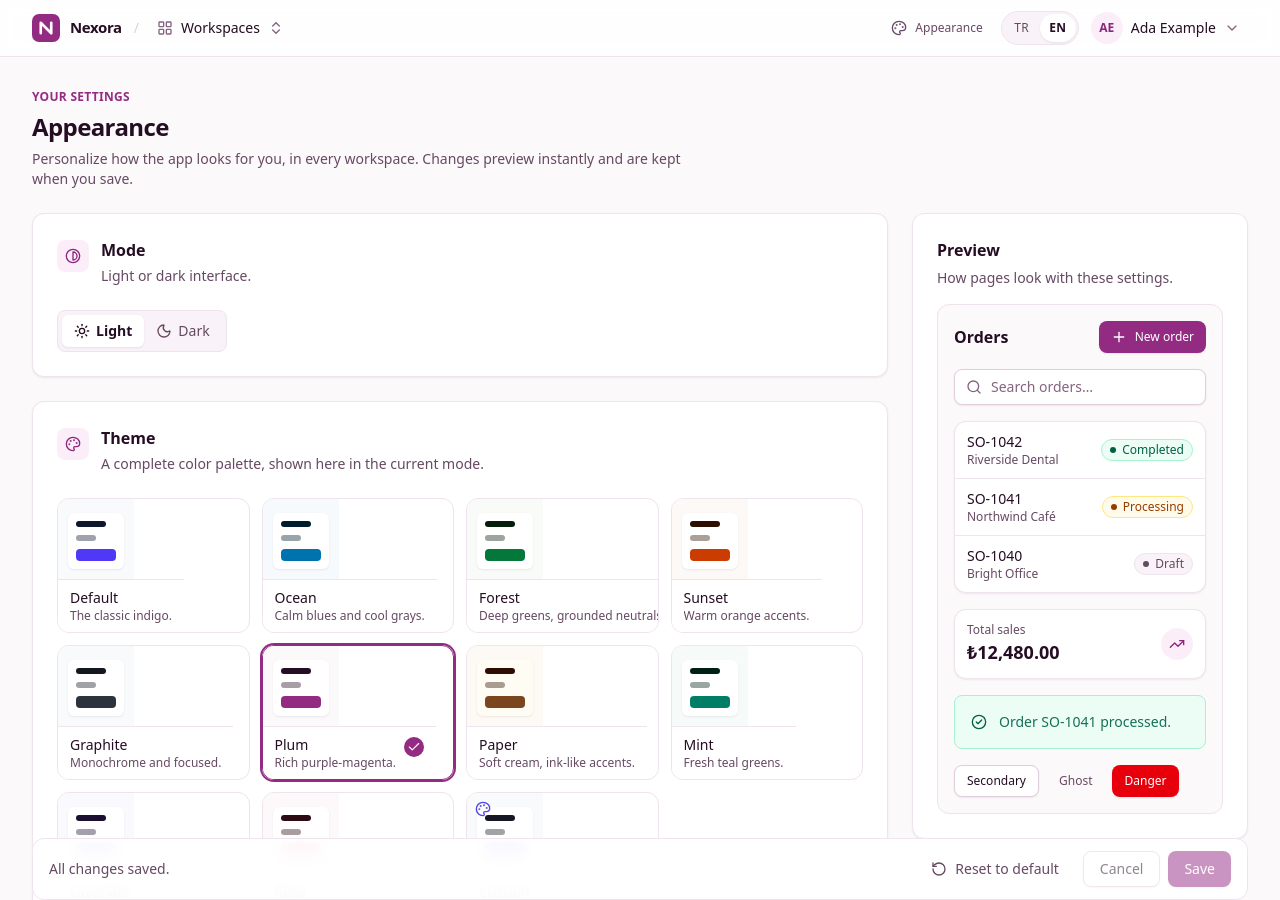
Test case: AppearancePage › cancel discards the preview and restores the saved appearance
Expected: the heading "Appearance" is shown, [32, 110, 169, 143]
Click the radio button with aria-label "Mint theme" at (767, 712), box [670, 645, 863, 780]
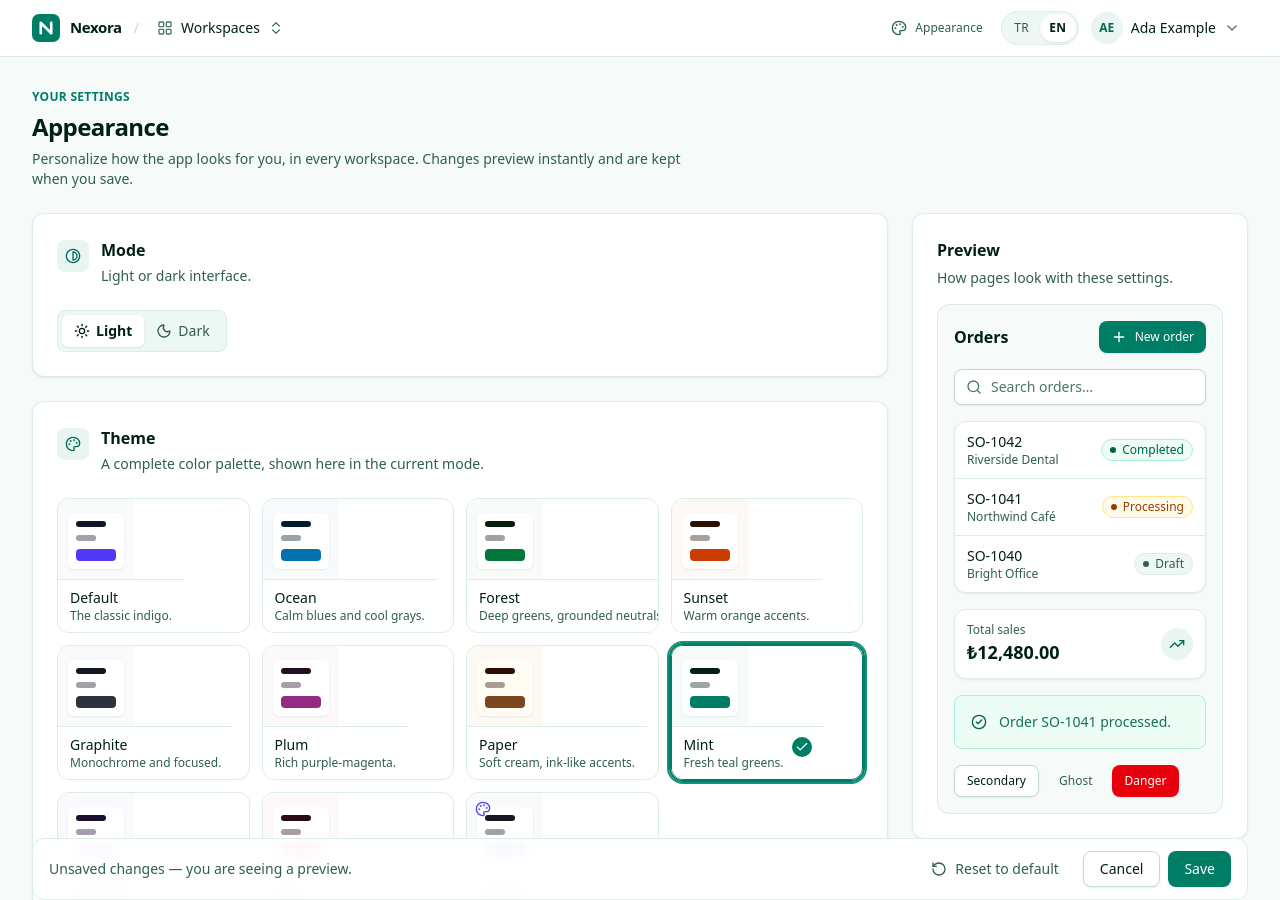
Click the radio button labelled "Dark" at (183, 331), box [144, 315, 222, 347]
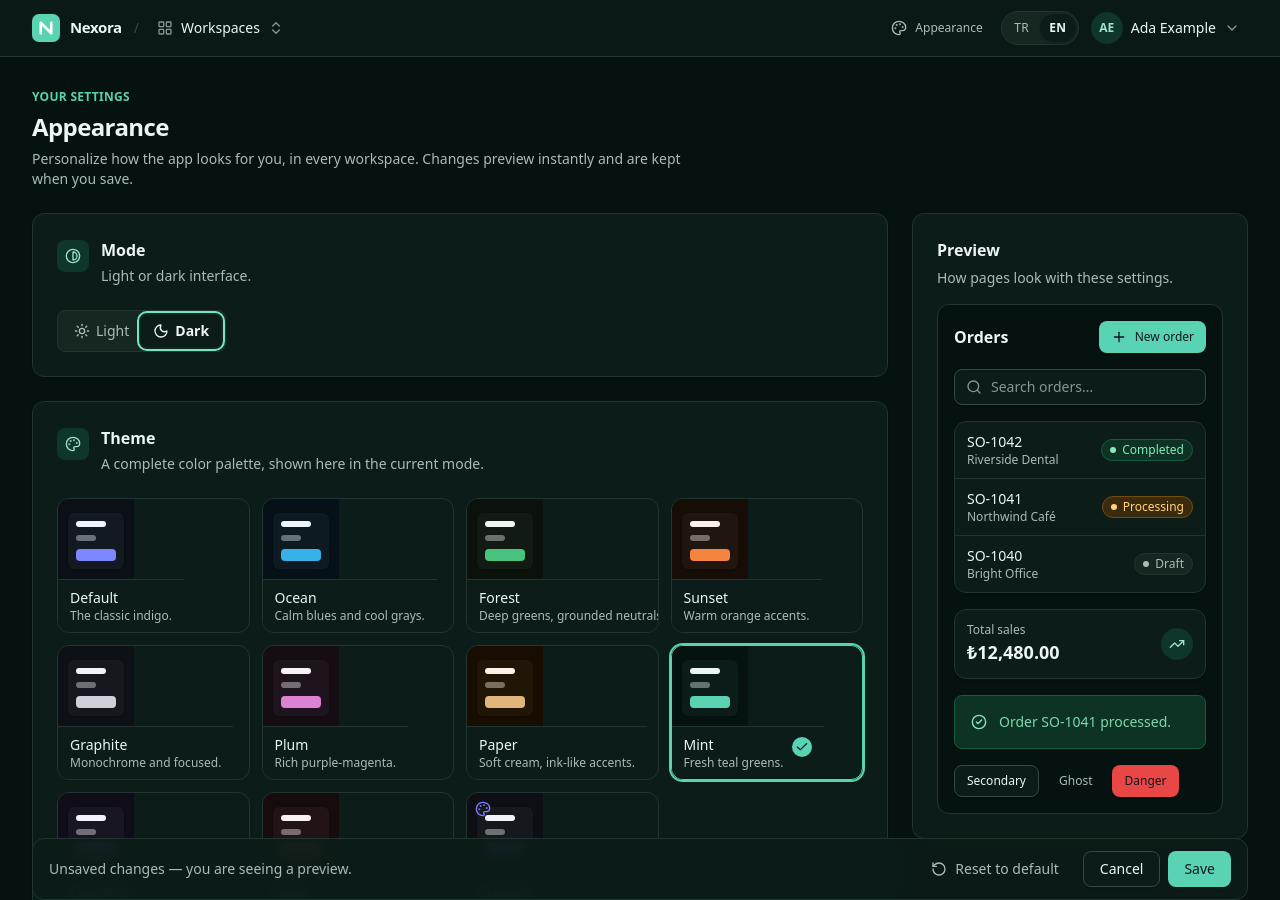
Click the button "Cancel" at (1122, 869), box [1083, 851, 1160, 887]
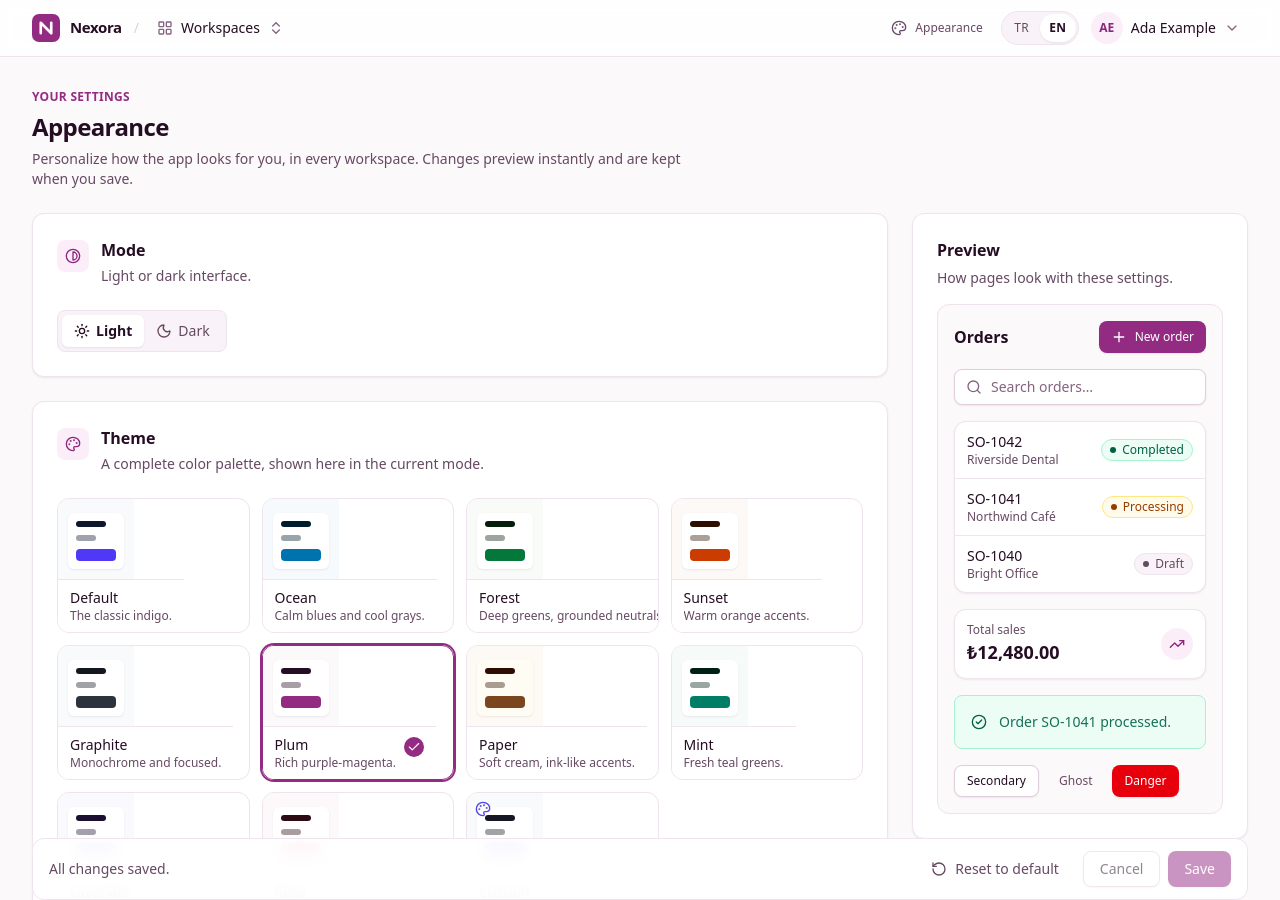
Expected: the radio button with aria-label "Plum theme" is checked, [262, 645, 454, 780]
Expected: the button "Cancel" is disabled, [1083, 851, 1160, 887]
